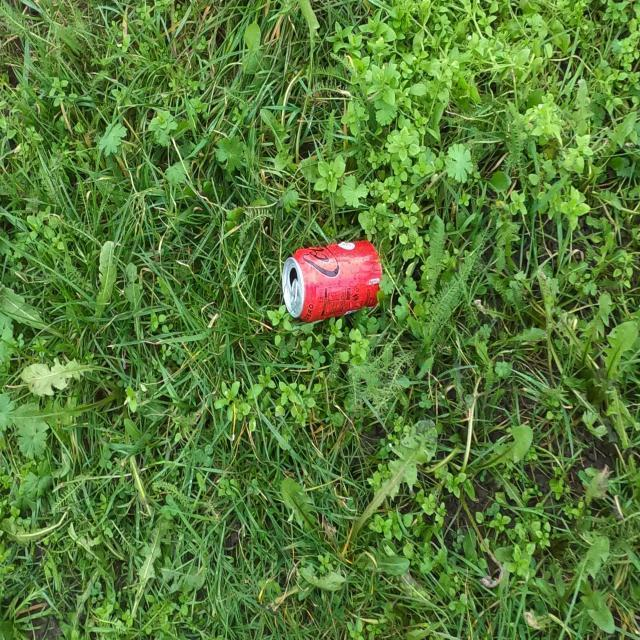Can-Metal: (280, 237, 384, 325)
